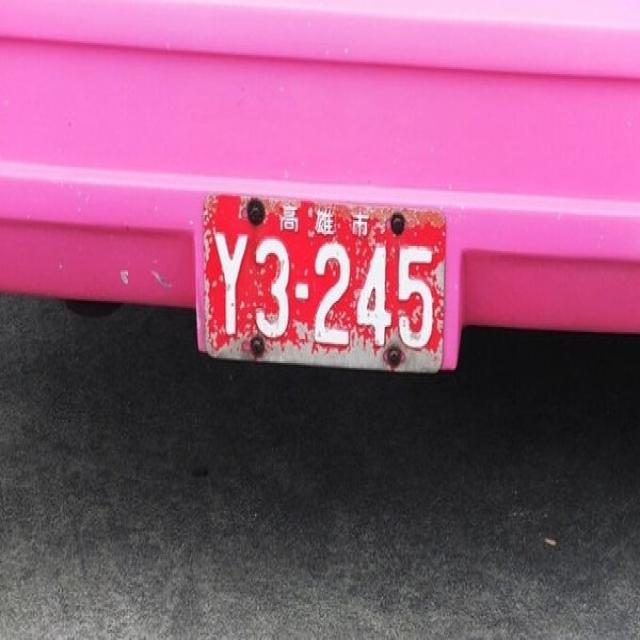license-plate: (202, 181, 450, 378)
